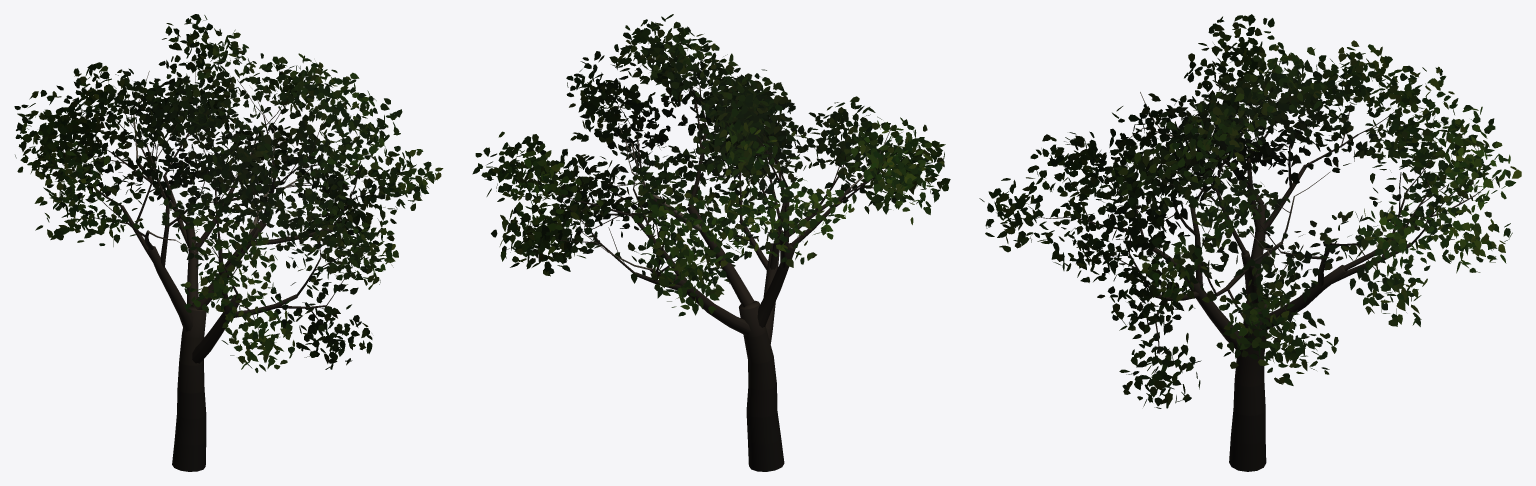
The model's file is SM_Cottonwood_A.fbx.
The picture shows the model from 3 angles, left to right: view 1: azimuth 30°, elevation 25°; view 2: azimuth 150°, elevation 25°; view 3: azimuth 270°, elevation 25°; orthographic projection. The views are drawn at different scales.
Visible parts, largest first — view 1: SM_Cottonwood_A; view 2: SM_Cottonwood_A; view 3: SM_Cottonwood_A.
Boxes of the visible parts, bbox=[...] form: SM_Cottonwood_A: bbox=[14, 14, 443, 471]; SM_Cottonwood_A: bbox=[472, 14, 950, 471]; SM_Cottonwood_A: bbox=[979, 14, 1521, 471].
Size of the model in its own units: 11.7 by 11.63 by 12.78.
